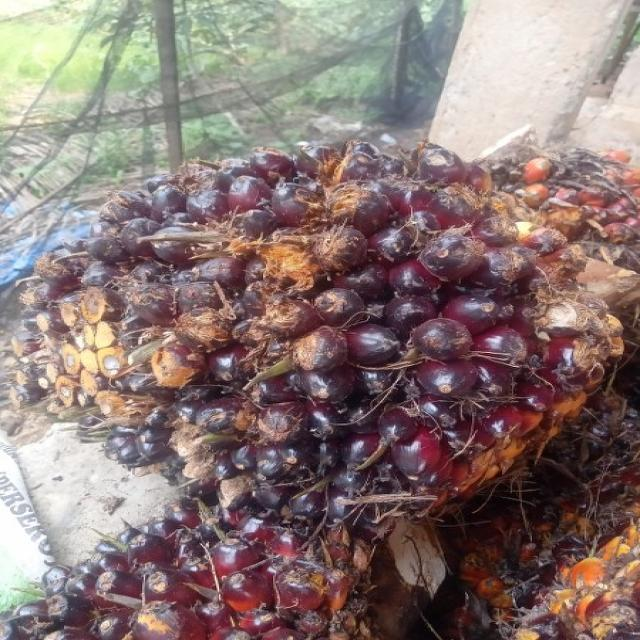fraksi 1: (37, 145, 640, 534)
